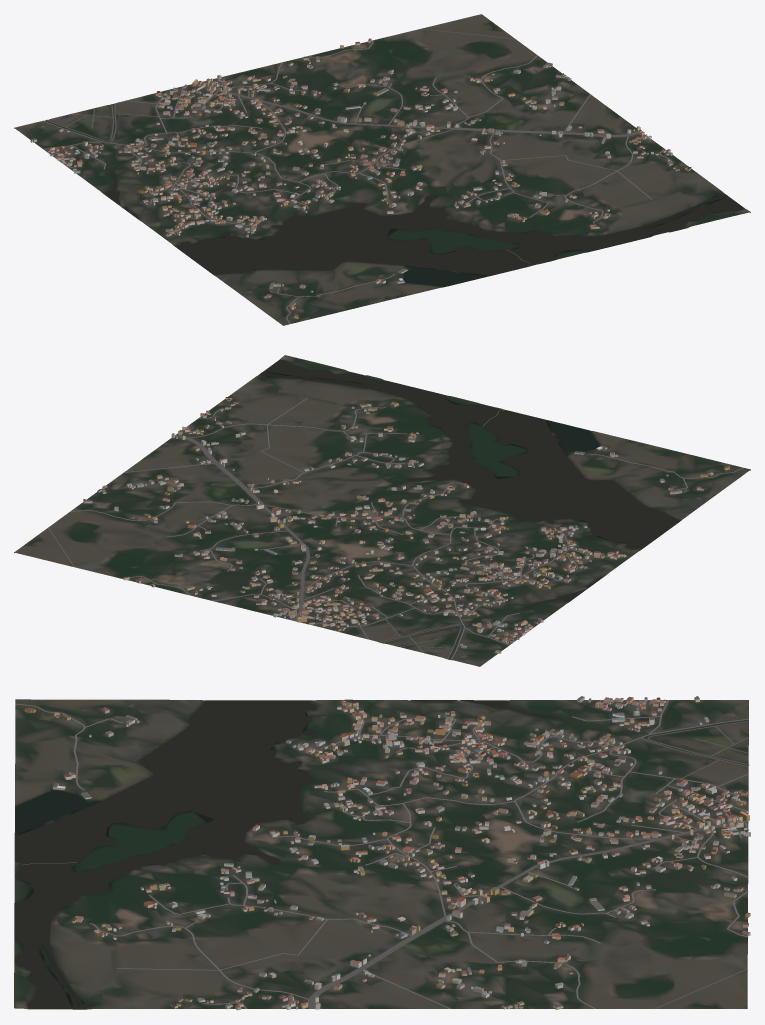
3 renders of one model, top to bottom at view 1: azimuth 30°, elevation 25°; view 2: azimuth 150°, elevation 25°; view 3: azimuth 270°, elevation 25°, orthographic. The views are drawn at different scales.
Parts seen in each view (by area): view 1: ground, water, buildings, roads; view 2: ground, water, buildings, roads; view 3: ground, water, buildings, roads.
Boxes of the visible parts, <box> form: ground: <box>14,14,750,325</box>; water: <box>44,104,744,286</box>; buildings: <box>30,38,691,318</box>; roads: <box>43,28,673,323</box>; ground: <box>14,355,750,666</box>; water: <box>260,359,679,659</box>; buildings: <box>83,396,729,653</box>; roads: <box>48,398,743,659</box>; ground: <box>14,699,748,1009</box>; water: <box>14,700,748,1009</box>; buildings: <box>24,696,750,1010</box>; roads: <box>15,700,748,1008</box>.
Size of the model in its own units: 1408 by 16.9 by 1408.
